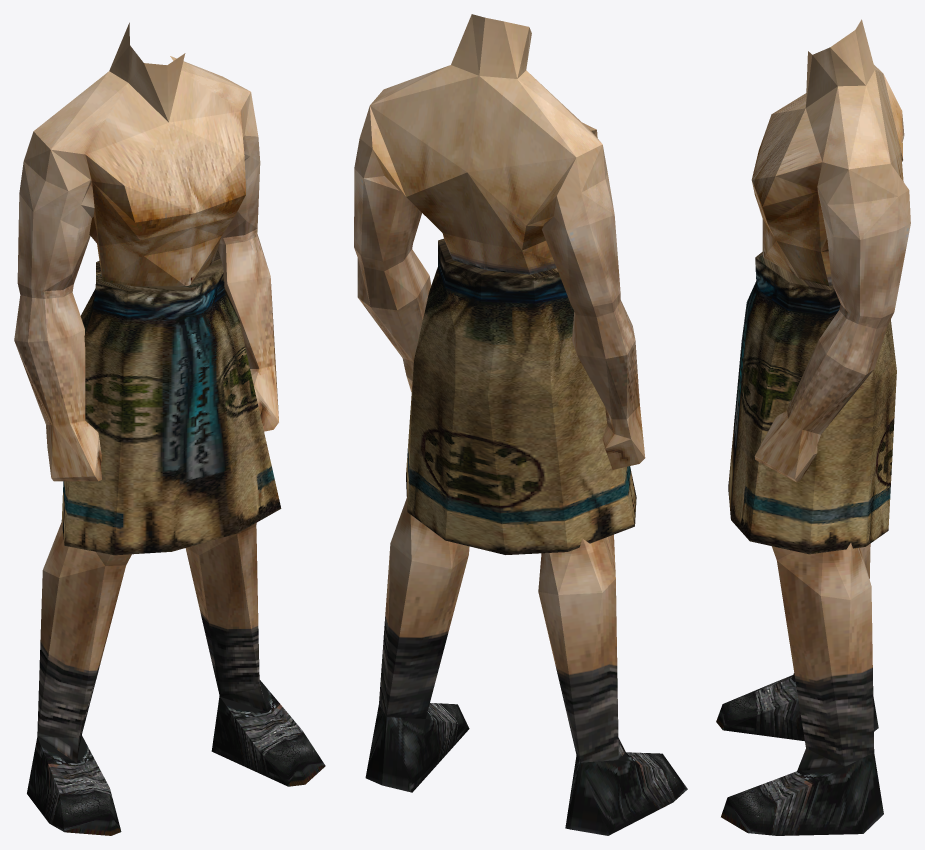
Rendered from NOV_ARMOR_L-DBjl8LHB.glb.
3 renders of one model, left to right at view 1: azimuth 30°, elevation 25°; view 2: azimuth 150°, elevation 25°; view 3: azimuth 270°, elevation 25°, orthographic. The views are drawn at different scales.
Visible parts, largest first — view 1: zm_Body, zm_NOV_Tl; view 2: zm_Body, zm_NOV_Tl; view 3: zm_Body, zm_NOV_Tl.
Boxes of the visible parts, <box> form: zm_Body: <box>14,22,325,835</box>; zm_NOV_Tl: <box>61,249,281,555</box>; zm_Body: <box>354,14,687,835</box>; zm_NOV_Tl: <box>406,238,636,554</box>; zm_Body: <box>716,19,910,835</box>; zm_NOV_Tl: <box>728,252,896,554</box>.
Bounding box in the file's own units: 0.6198 × 1.69 × 0.3896.
2 materials, 2 textured.
